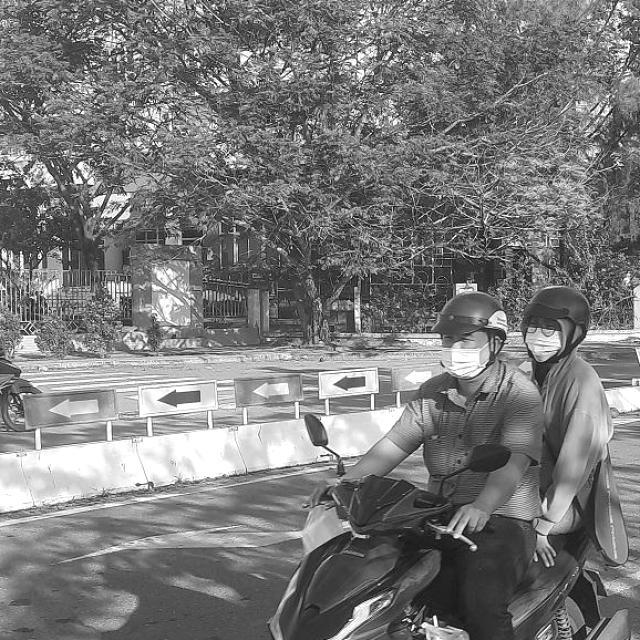Helmet: (432, 291, 509, 382), (523, 286, 600, 366)
